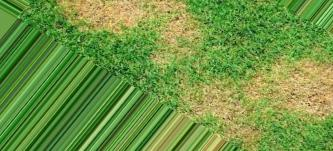patch: (201, 87, 239, 127), (292, 66, 322, 110), (248, 79, 287, 109), (150, 7, 193, 31), (91, 2, 121, 24), (156, 43, 183, 65), (327, 75, 333, 97)
